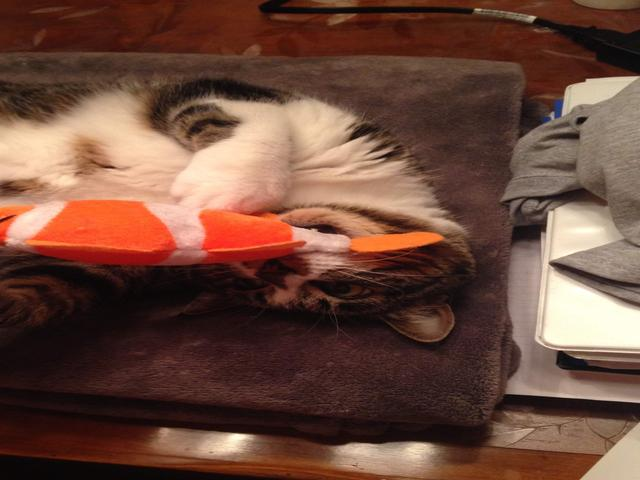clownfish: (1, 198, 445, 270)
playdoh: (1, 75, 473, 342)
